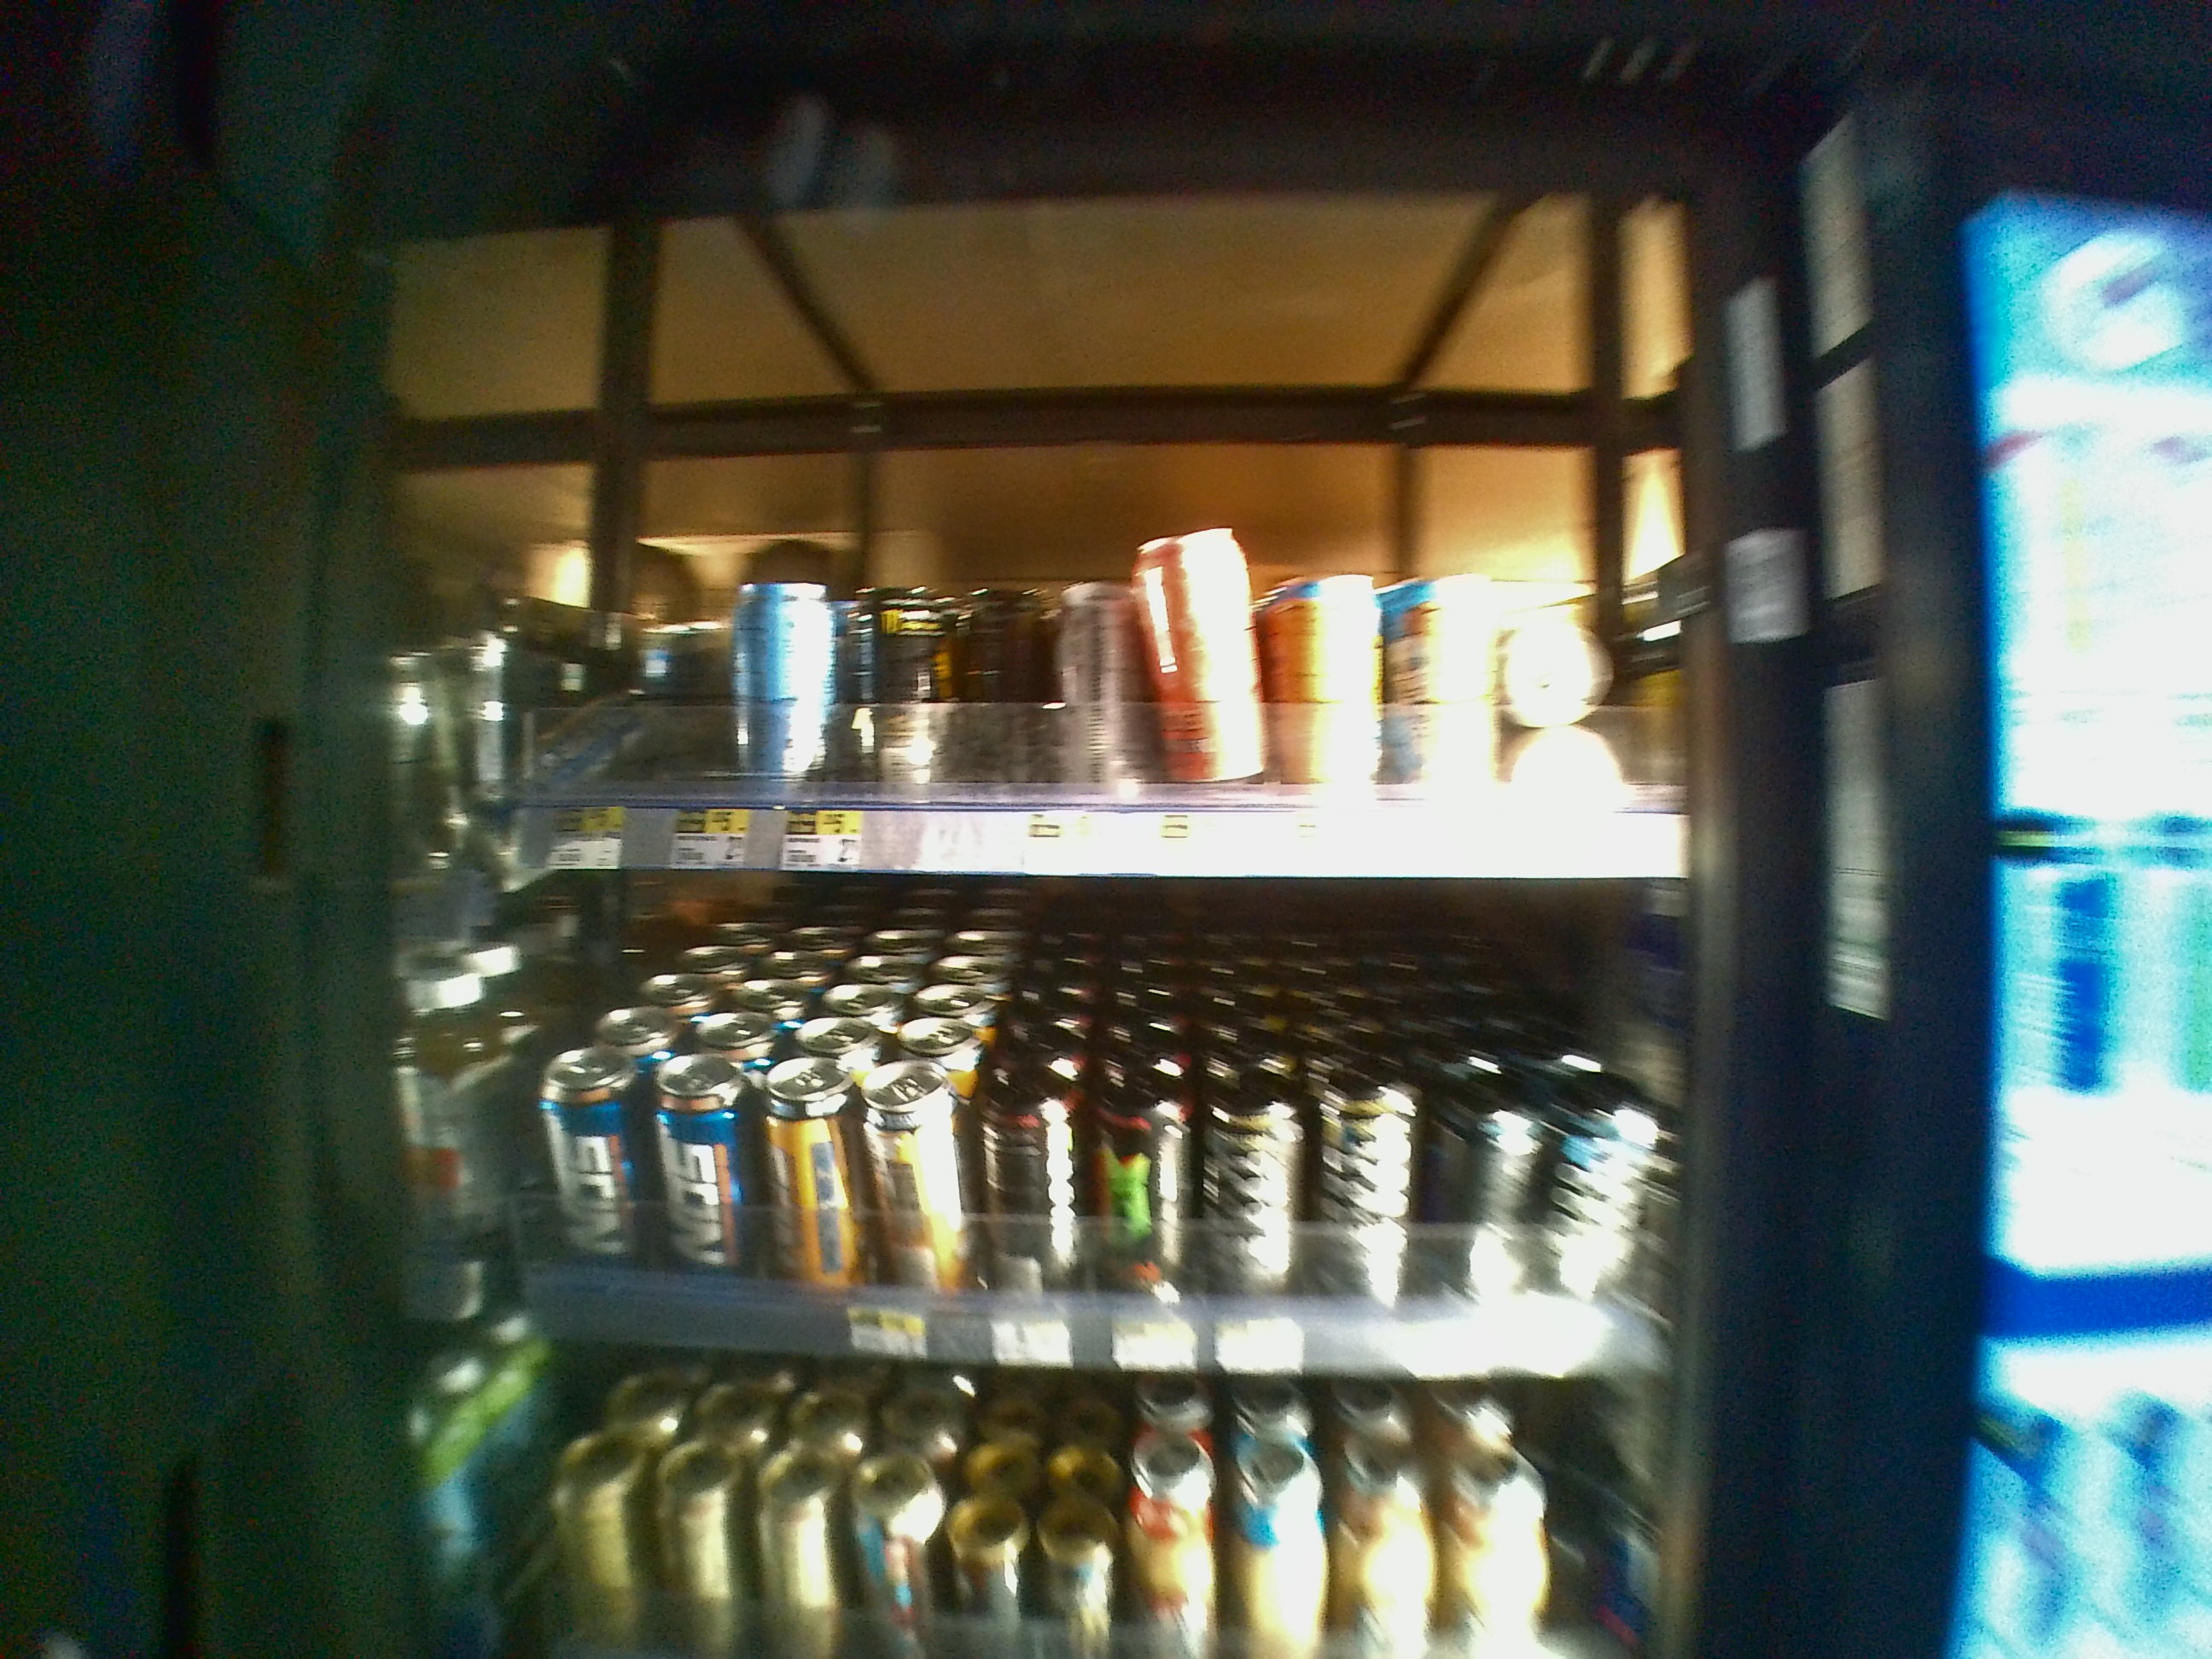shelf: (390, 230, 1733, 882), (374, 871, 1712, 1375)
